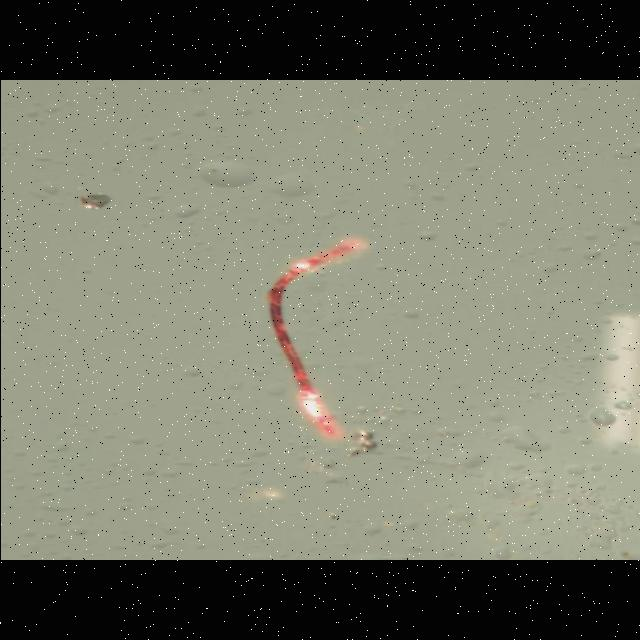Fibre: (264, 238, 372, 440)
